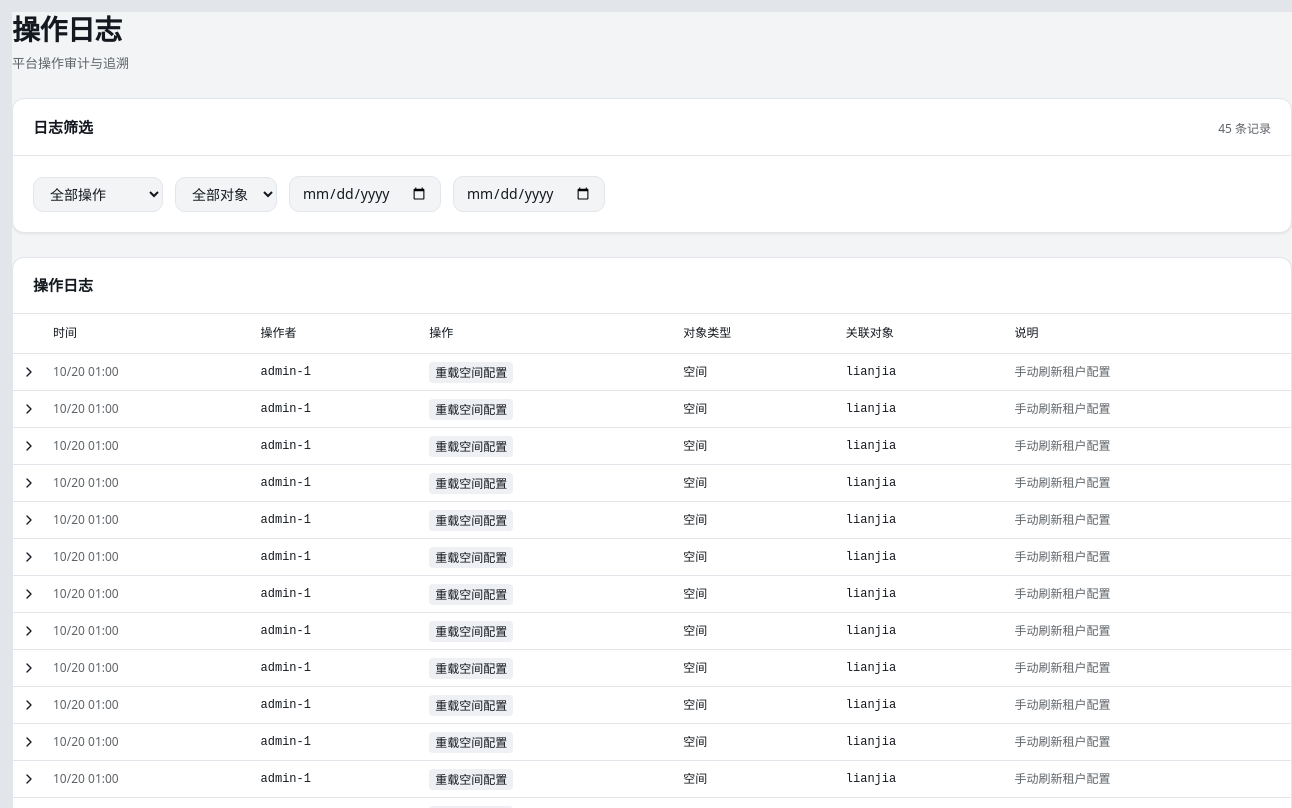
Test case: 操作日志分页（C25） › 操作名/对象类型翻中文；原始数据默认折叠，点「查看详情」才出现
This screenshot has width=1292, height=808.
Expected: the text "\"tenant.reload\"" is not shown
# 展开一行：先给摘要，原始 JSON 仍是折叠的
Click the 1st row "10/20 01:00 admin-1 重载空间配置 空间 lianjia 手动刷新租户配置": (652, 372) left=13, top=354, right=1291, bottom=391
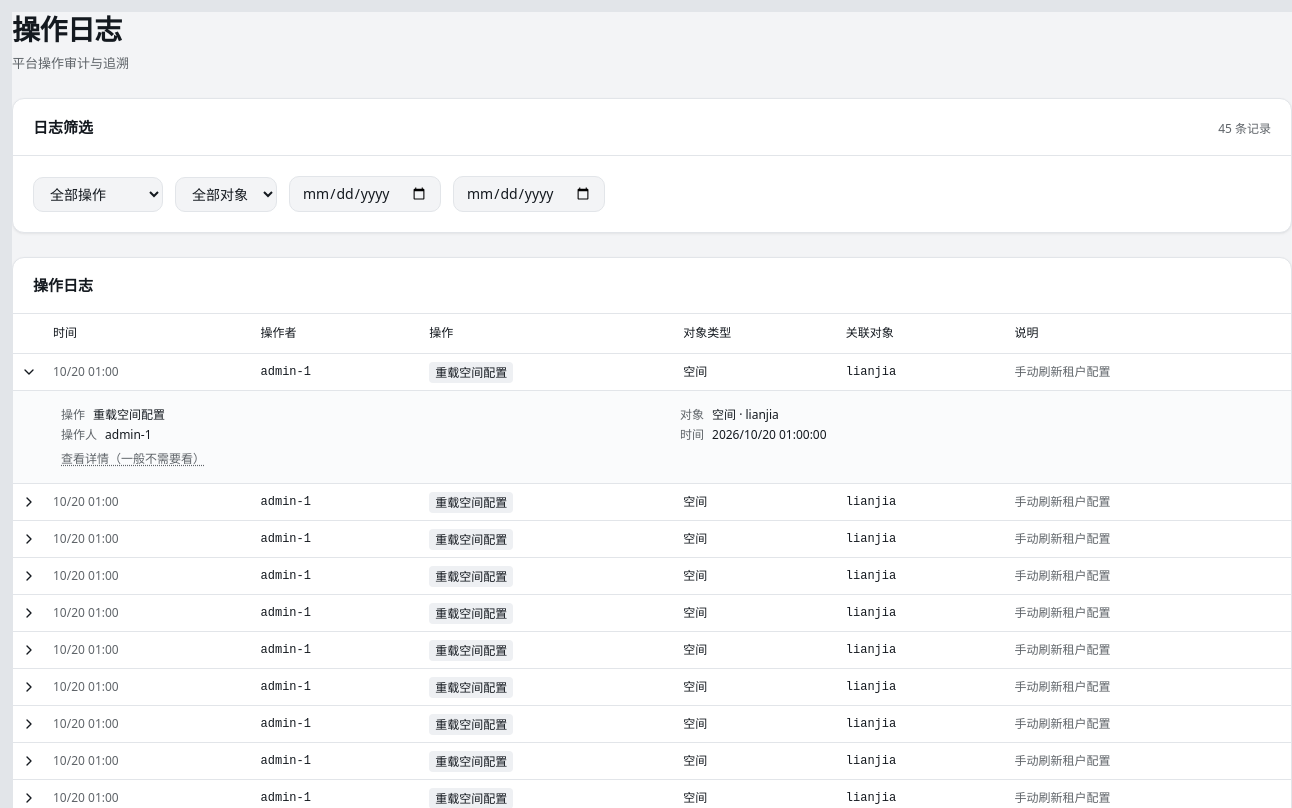
Result: the text "查看详情（一般不需要看）" is shown
# 点「查看详情」才把原始 JSON 铺开
Click the button "查看详情（一般不需要看）": (133, 459) left=61, top=451, right=205, bottom=467
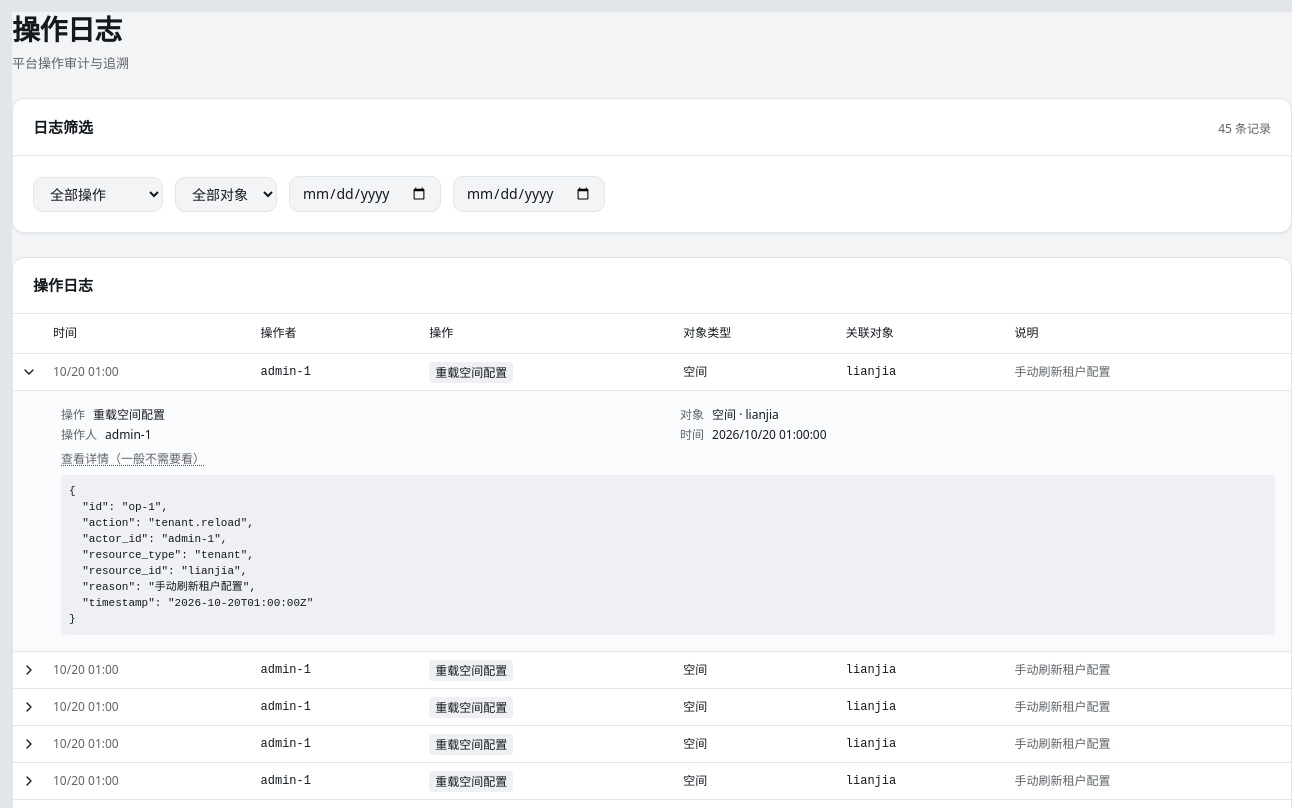
Result: the text "\"resource_type\"" is shown at left=69, top=485, right=313, bottom=625
